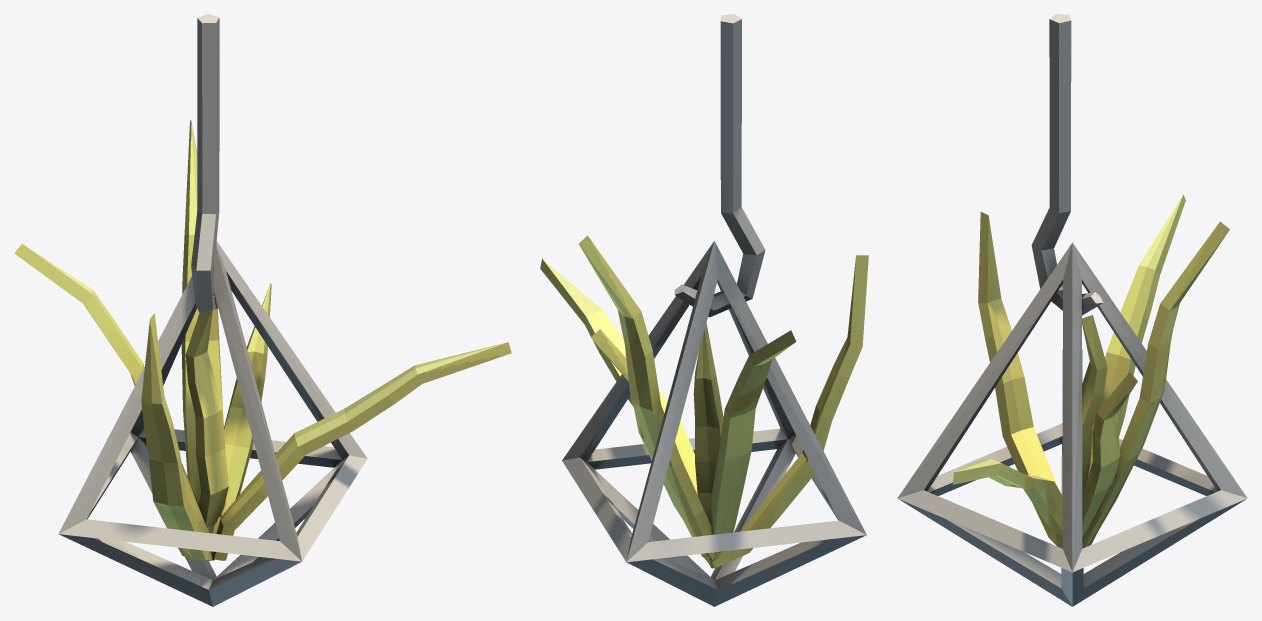
The model's file is Air plant.glb.
3 views of the same model, side by side, from view 1: azimuth 30°, elevation 25°; view 2: azimuth 150°, elevation 25°; view 3: azimuth 270°, elevation 25° (orthographic).
Parts seen in each view (by area): view 1: air_plant; view 2: air_plant; view 3: air_plant.
Boxes of the visible parts, <box> form: air_plant: <box>14,14,511,606</box>; air_plant: <box>540,14,868,606</box>; air_plant: <box>897,14,1247,606</box>.
Size of the model in its own units: 1.92 by 2.78 by 1.51.
1 material, 1 textured.
